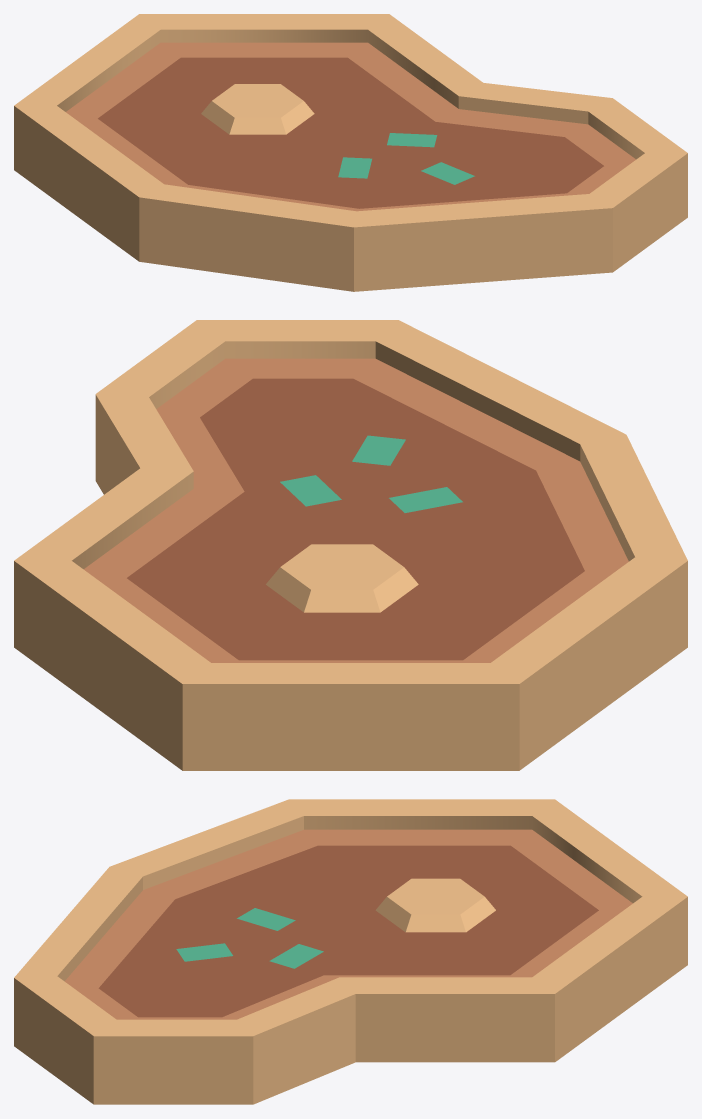
Rendered from meatCooked.fbx.
The picture shows the model from 3 angles, top to bottom: view 1: azimuth 30°, elevation 25°; view 2: azimuth 150°, elevation 25°; view 3: azimuth 270°, elevation 25°; orthographic projection. The views are drawn at different scales.
Visible parts, largest first — view 1: meatCooked; view 2: meatCooked; view 3: meatCooked.
Part boxes in pixels (bbox=[...]): meatCooked: bbox=[14, 14, 687, 291]; meatCooked: bbox=[14, 320, 687, 770]; meatCooked: bbox=[14, 799, 687, 1104].
Size of the model in its own units: 4.78 by 0.645 by 5.75.
